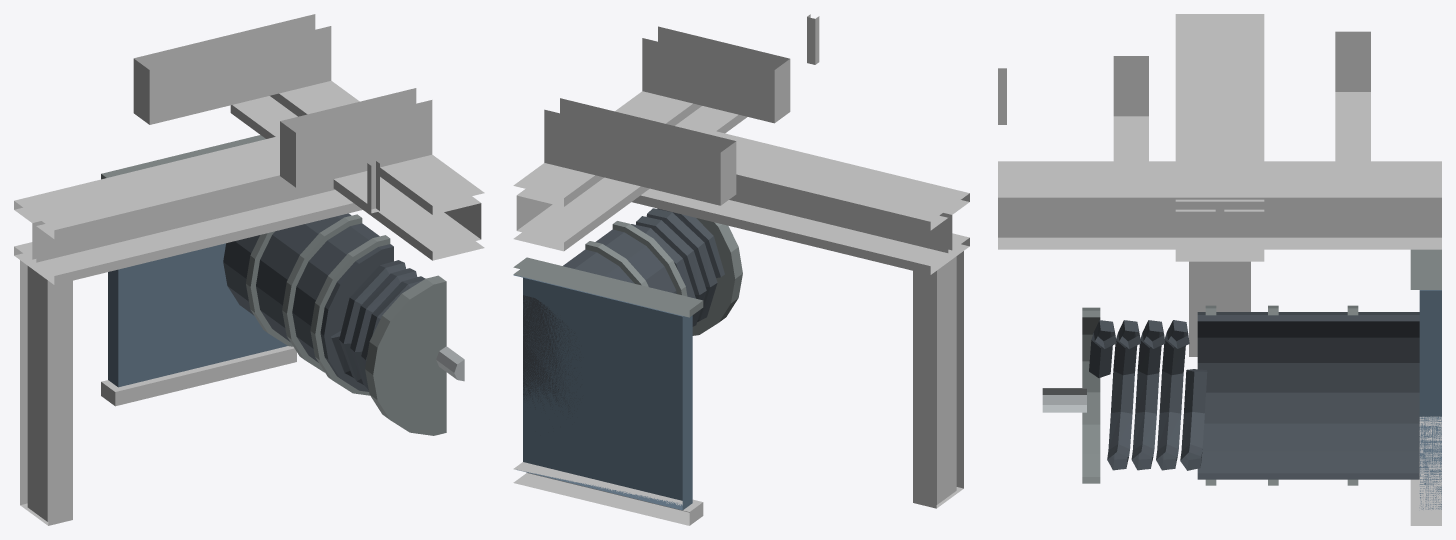
File: cell_14.obj
3 renders of one model, left to right at view 1: azimuth 30°, elevation 25°; view 2: azimuth 150°, elevation 25°; view 3: azimuth 270°, elevation 25°, orthographic. The views are drawn at different scales.
Bounding box in the file's own units: 1 × 1 × 1.
